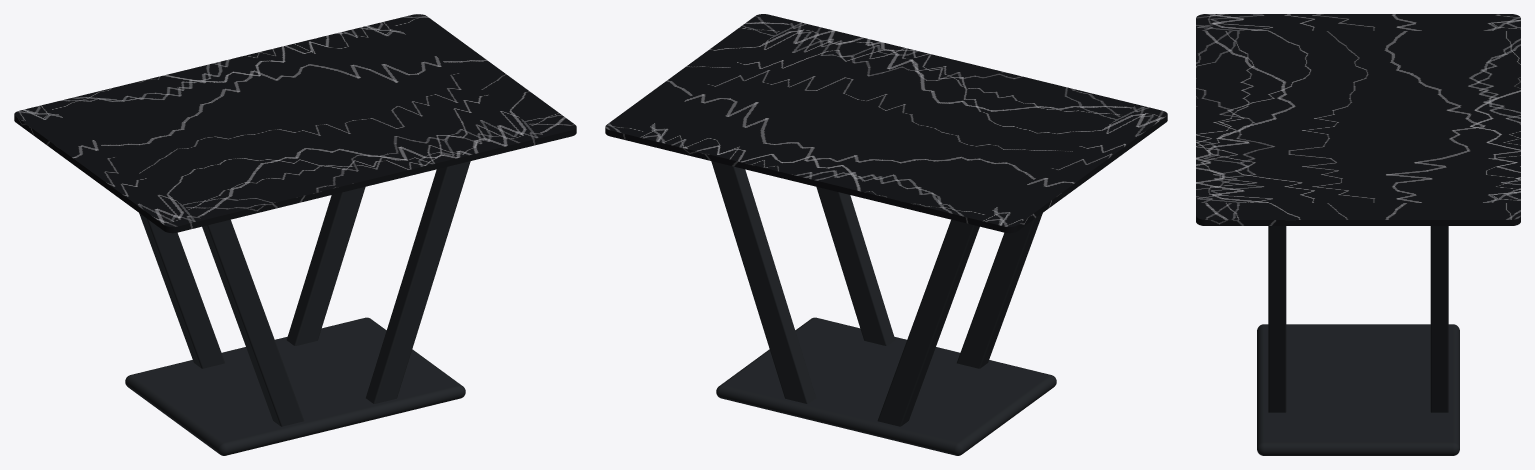
Rendered from table-04-v-pedestal.glb.
3 views of the same model, side by side, from view 1: azimuth 30°, elevation 25°; view 2: azimuth 150°, elevation 25°; view 3: azimuth 270°, elevation 25° (orthographic). The views are drawn at different scales.
Parts seen in each view (by area): view 1: Top_Center, Base_Plinth, Support_Right_Front, Support_Left_Front, Support_Right_Back, Top_Edge_Front, Support_Left_Back, Top_Edge_Left, Top_Edge_Back, Top_Edge_Right; view 2: Top_Center, Base_Plinth, Support_Right_Back, Support_Left_Back, Support_Right_Front, Top_Edge_Back, Support_Left_Front, Top_Edge_Left, Top_Edge_Front, Top_Edge_Right; view 3: Top_Center, Base_Plinth, Support_Right_Front, Support_Right_Back, Top_Edge_Right, Top_Edge_Front, Top_Edge_Back, Top_Edge_Left.
Part boxes in pixels (x1=…): Top_Center: x1=25, y1=18, x2=566, y2=222; Base_Plinth: x1=125, y1=317, x2=465, y2=455; Support_Right_Front: x1=366, y1=161, x2=470, y2=403; Support_Left_Front: x1=202, y1=219, x2=304, y2=426; Support_Right_Back: x1=286, y1=187, x2=365, y2=345; Top_Edge_Front: x1=173, y1=127, x2=571, y2=232; Support_Left_Back: x1=139, y1=213, x2=224, y2=368; Top_Edge_Left: x1=15, y1=114, x2=172, y2=230; Top_Edge_Back: x1=20, y1=14, x2=417, y2=114; Top_Edge_Right: x1=418, y1=16, x2=574, y2=126; Top_Center: x1=615, y1=18, x2=1156, y2=222; Base_Plinth: x1=716, y1=317, x2=1056, y2=455; Support_Right_Back: x1=711, y1=161, x2=815, y2=403; Support_Left_Back: x1=877, y1=219, x2=979, y2=426; Support_Right_Front: x1=816, y1=187, x2=895, y2=345; Top_Edge_Back: x1=610, y1=127, x2=1008, y2=232; Support_Left_Front: x1=957, y1=213, x2=1042, y2=368; Top_Edge_Left: x1=1009, y1=114, x2=1166, y2=230; Top_Edge_Front: x1=764, y1=14, x2=1161, y2=114; Top_Edge_Right: x1=607, y1=16, x2=763, y2=126; Top_Center: x1=1206, y1=18, x2=1510, y2=215; Base_Plinth: x1=1257, y1=324, x2=1459, y2=455; Support_Right_Front: x1=1268, y1=226, x2=1286, y2=412; Support_Right_Back: x1=1430, y1=226, x2=1448, y2=412; Top_Edge_Right: x1=1206, y1=215, x2=1510, y2=225; Top_Edge_Front: x1=1196, y1=18, x2=1206, y2=215; Top_Edge_Back: x1=1510, y1=18, x2=1520, y2=215; Top_Edge_Left: x1=1206, y1=14, x2=1510, y2=18.
Size of the model in its own units: 1.2 by 0.76 by 0.8.
Materials: 13 (11 with a texture image).
